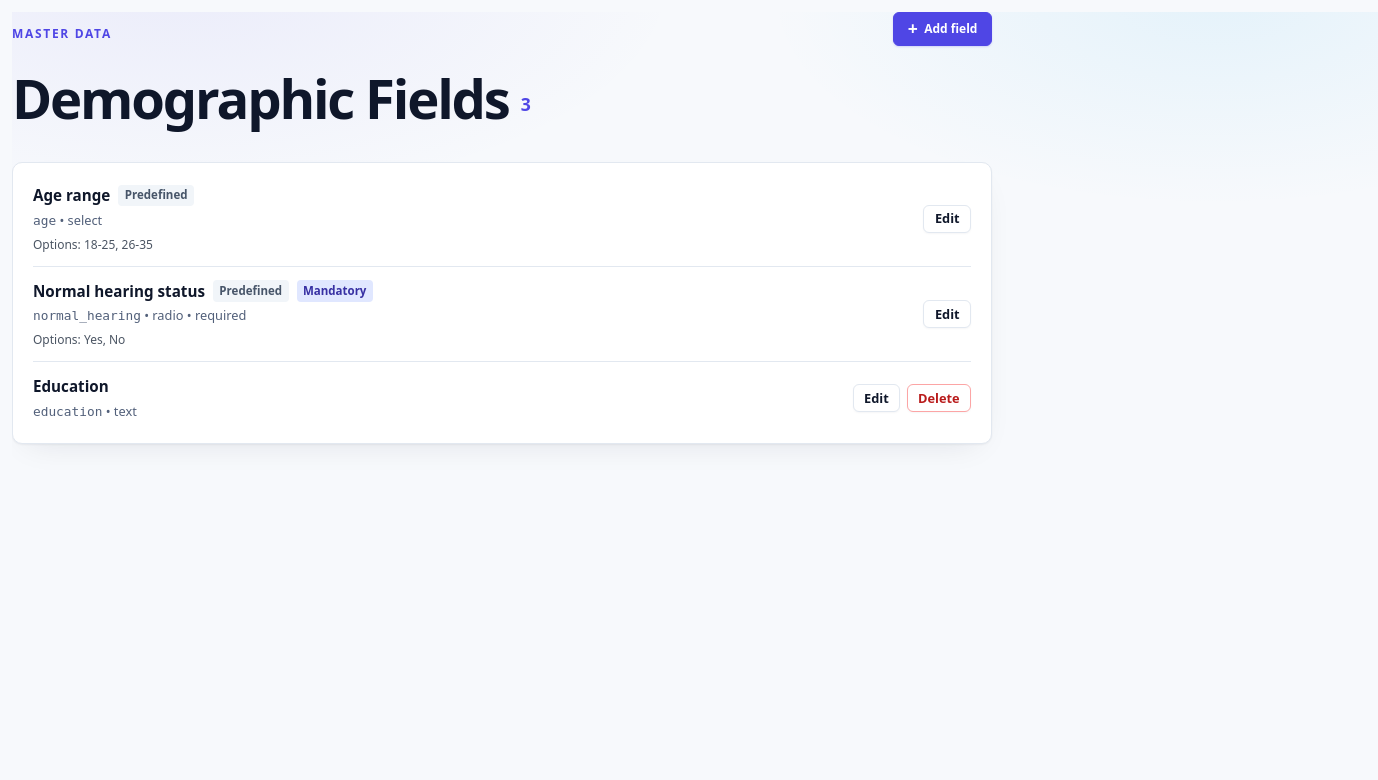
Scenario: DemographicFieldsPage Inline CRUD UI › closes inline edit mode when Close button is clicked
expect the text "Education" is shown: met, box [33,374,109,399]
Click the button "Edit" in the row of "text" at x=876, y=398, box [853,384,900,412]
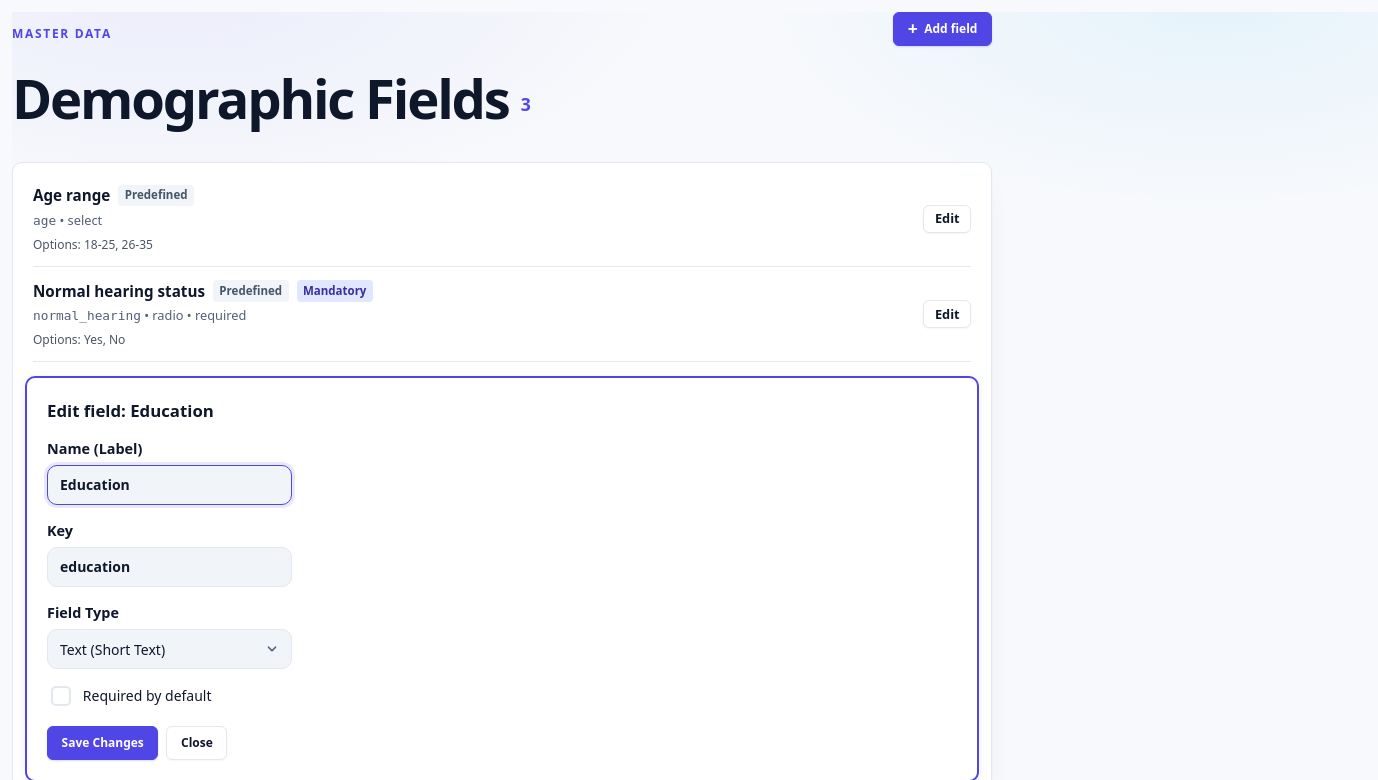
expect the heading "Edit field: Education" is shown: met, box [47,399,214,422]
Click the button "Close" at x=197, y=744, box [166,726,227,760]
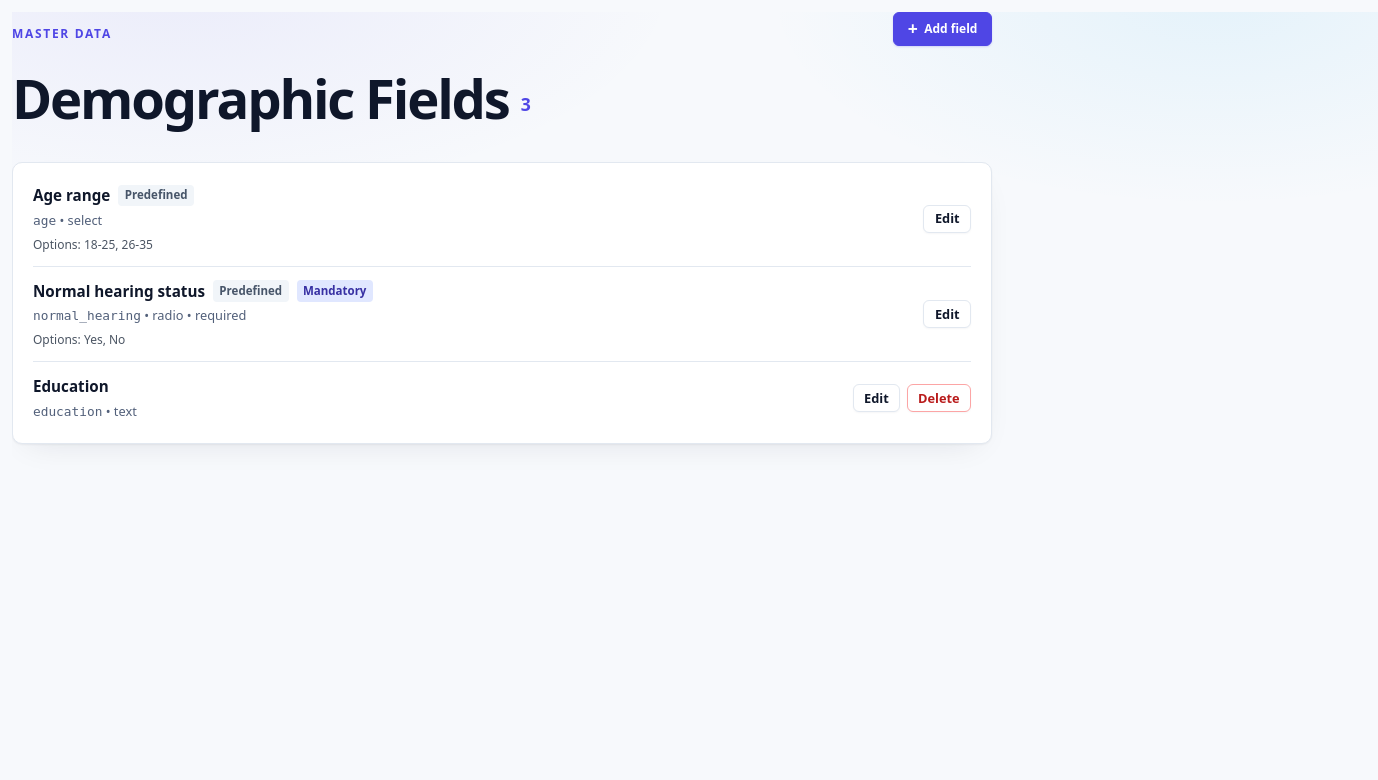
expect the heading "Edit field: Education" is gone: met
